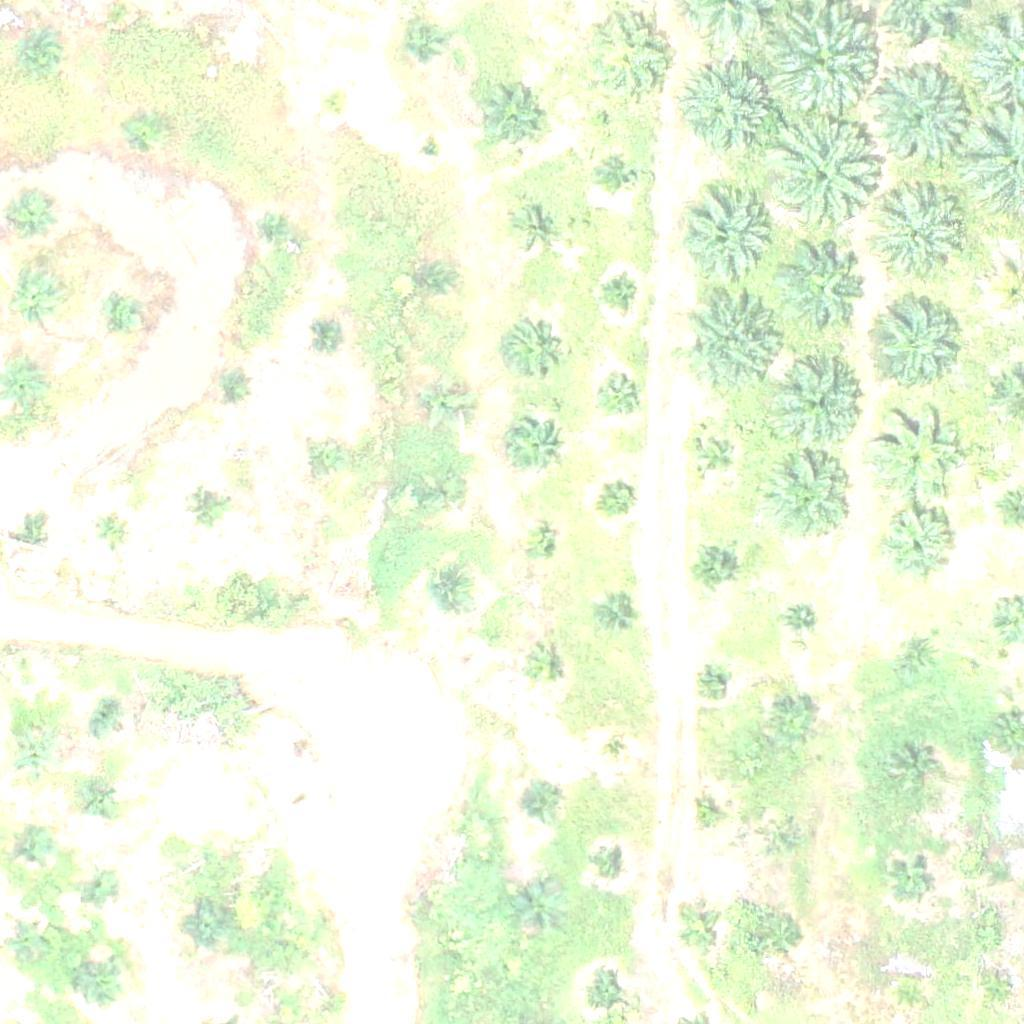Kelapa_Sawit: (758, 118, 883, 243), (868, 66, 968, 167), (679, 63, 779, 164), (676, 191, 776, 292), (581, 9, 681, 110), (866, 401, 966, 502), (684, 293, 784, 394), (879, 195, 967, 284), (873, 502, 961, 590), (764, 451, 852, 539), (776, 359, 864, 447), (783, 246, 871, 334), (873, 291, 960, 379), (476, 90, 539, 153), (503, 417, 565, 480), (7, 191, 57, 242), (760, 911, 810, 962), (506, 320, 556, 371), (673, 905, 723, 956), (519, 644, 569, 695), (422, 377, 472, 428), (80, 955, 130, 1005), (12, 275, 62, 325), (888, 851, 938, 901), (888, 744, 938, 794), (895, 630, 945, 680), (768, 700, 818, 750), (687, 540, 737, 590), (515, 884, 565, 934), (184, 904, 234, 954), (690, 431, 740, 481), (595, 367, 645, 417), (519, 785, 557, 823), (412, 262, 450, 300), (315, 87, 353, 125), (606, 156, 644, 194), (86, 863, 124, 901), (86, 776, 124, 814), (85, 701, 123, 739), (105, 299, 142, 337), (889, 977, 927, 1014), (763, 822, 801, 859), (522, 529, 560, 566), (600, 273, 637, 311), (518, 206, 555, 244), (312, 317, 350, 354), (188, 492, 225, 530), (429, 475, 467, 512), (602, 477, 639, 515), (399, 26, 436, 64), (92, 516, 129, 554), (14, 738, 51, 776), (19, 830, 56, 868), (9, 926, 46, 964), (982, 971, 1019, 1009), (22, 37, 59, 74), (598, 601, 635, 638), (430, 573, 467, 610), (210, 365, 247, 402), (307, 443, 344, 480), (127, 110, 164, 147), (258, 208, 295, 245), (15, 522, 40, 548), (699, 671, 724, 696), (692, 801, 717, 826), (604, 740, 629, 765), (598, 852, 623, 877), (418, 136, 443, 161), (787, 607, 811, 632)
